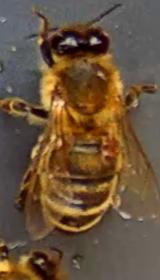varroa_mite: (90, 130, 126, 162)
